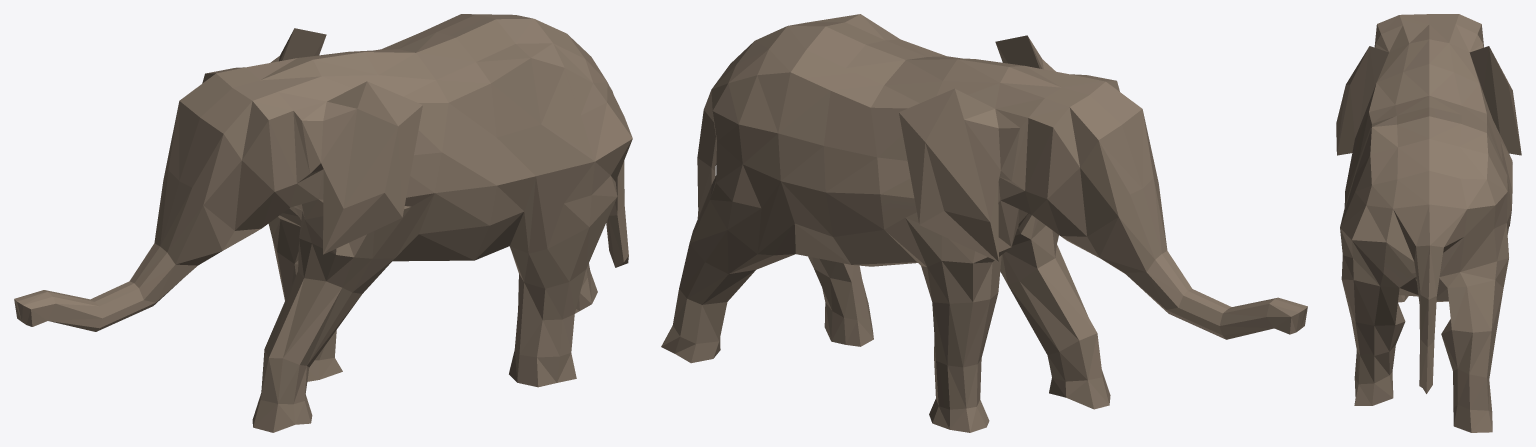
Rendered from elephant.glb.
The picture shows the model from 3 angles, left to right: view 1: azimuth 30°, elevation 25°; view 2: azimuth 150°, elevation 25°; view 3: azimuth 270°, elevation 25°; orthographic projection. The views are drawn at different scales.
Visible parts, largest first — view 1: Elephant; view 2: Elephant; view 3: Elephant.
Part boxes in pixels (x1,y1,x2,y2): Elephant: [14, 14, 632, 432]; Elephant: [661, 14, 1307, 432]; Elephant: [1336, 14, 1521, 432].
Size of the model in its own units: 7.32 by 3.9 by 2.35.
